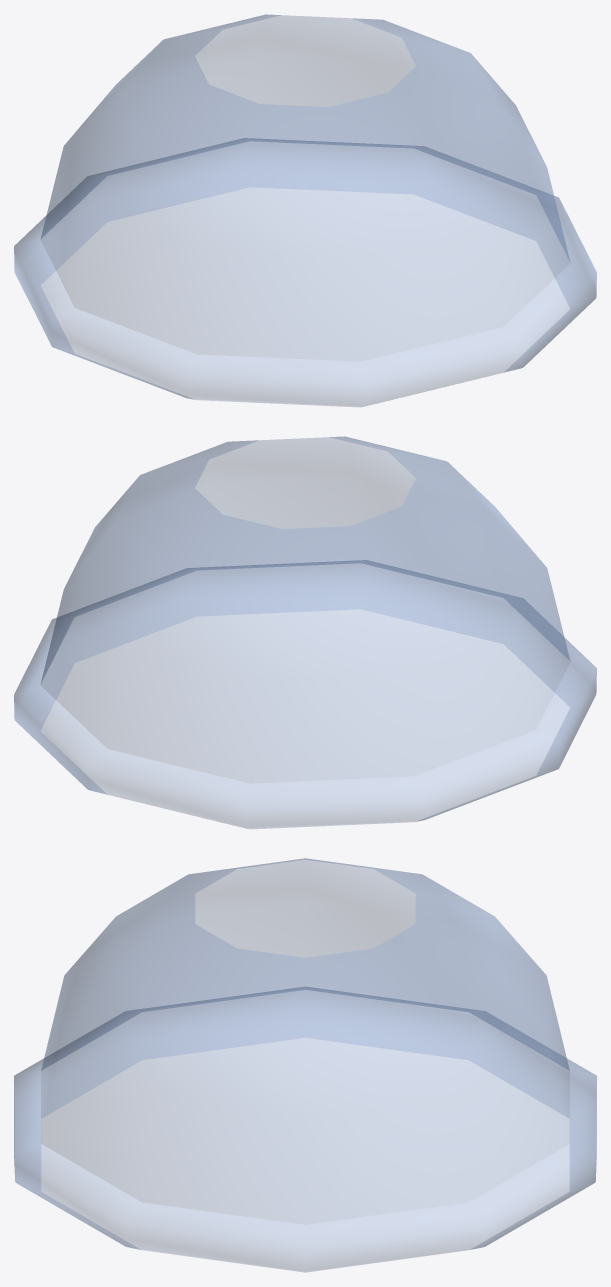
The model's file is Boba_01_Lid.fbx.
The picture shows the model from 3 angles, top to bottom: view 1: azimuth 30°, elevation 25°; view 2: azimuth 150°, elevation 25°; view 3: azimuth 270°, elevation 25°; orthographic projection. The views are drawn at different scales.
Parts seen in each view (by area): view 1: Boba_01_Lid; view 2: Boba_01_Lid; view 3: Boba_01_Lid.
Boxes of the visible parts, bbox=[...] form: Boba_01_Lid: bbox=[14, 14, 596, 407]; Boba_01_Lid: bbox=[14, 436, 596, 829]; Boba_01_Lid: bbox=[14, 858, 596, 1272].
Bounding box in the file's own units: 38.61 × 17.18 × 36.84.
